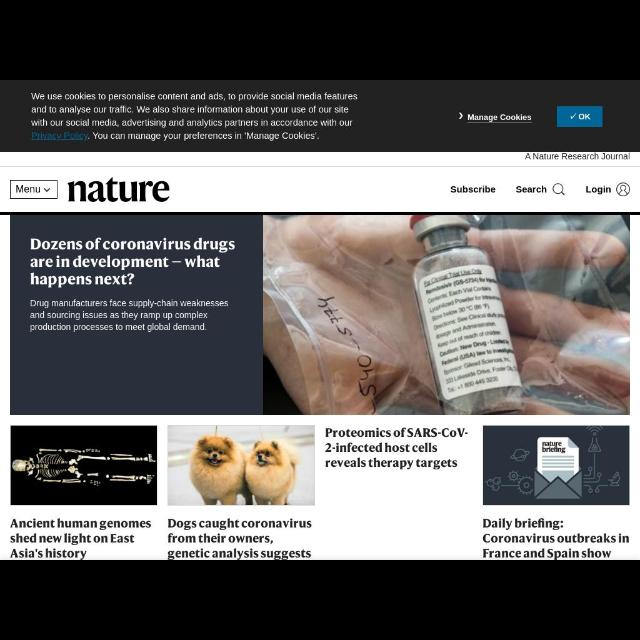icon: (552, 184, 566, 196), (616, 184, 630, 196), (568, 113, 578, 121), (44, 186, 50, 194), (457, 112, 463, 118)
image: (262, 216, 630, 414), (168, 426, 314, 504), (11, 426, 157, 504), (483, 426, 629, 504)
link: (32, 132, 90, 140)
spinner: (10, 180, 58, 198)
text: (32, 92, 356, 142), (31, 238, 236, 286), (10, 517, 150, 559), (483, 519, 629, 559), (168, 519, 312, 559), (326, 428, 468, 468), (68, 178, 170, 206), (525, 152, 631, 160), (468, 113, 532, 123), (449, 186, 496, 194), (17, 185, 41, 195), (586, 185, 610, 195), (579, 112, 591, 120)
textbutton: (30, 299, 228, 331), (558, 107, 604, 127), (516, 185, 546, 195)
toolbar: (1, 166, 639, 212)
